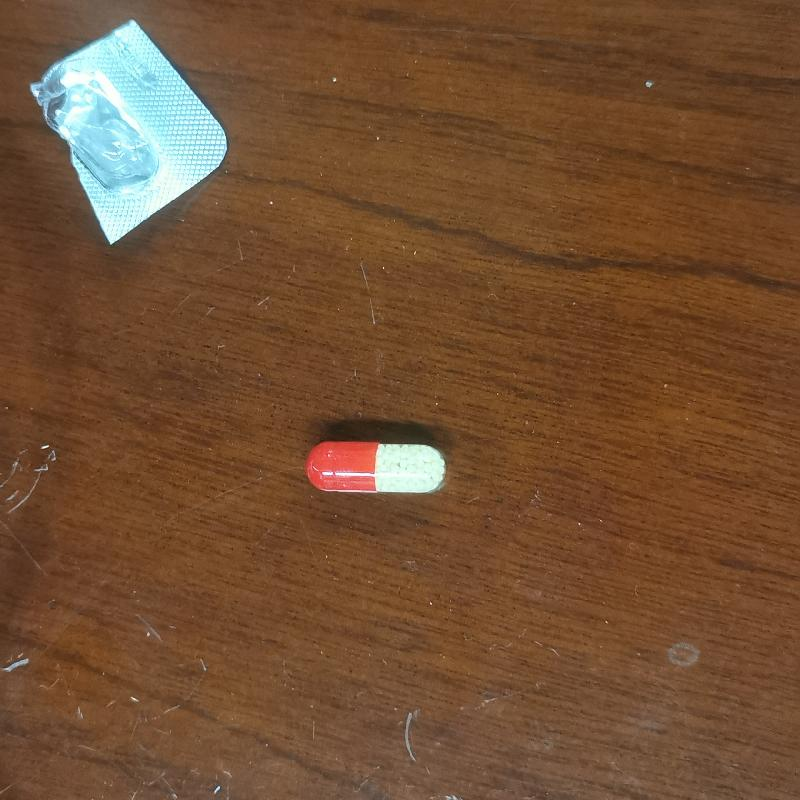pills: (300, 431, 460, 506)
